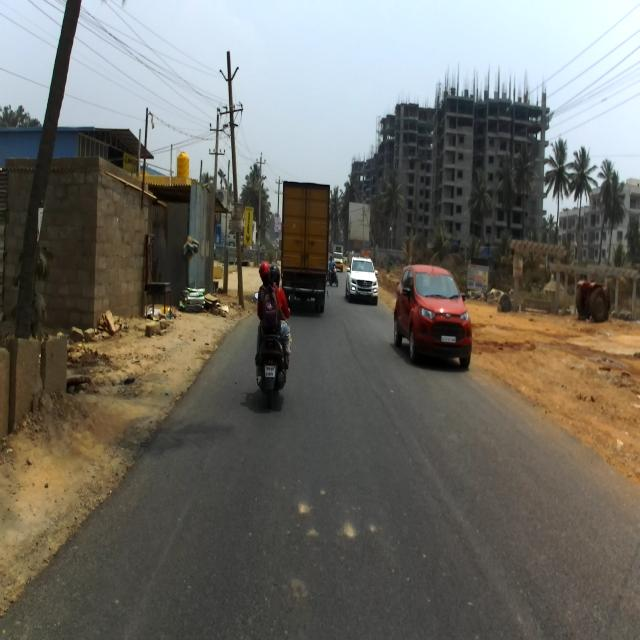car ahead at: (394, 261, 474, 369)
electric pole ahead at: (216, 40, 248, 313)
motorcycle ahead at: (254, 327, 292, 407)
truck ahead at: (280, 178, 329, 316)
